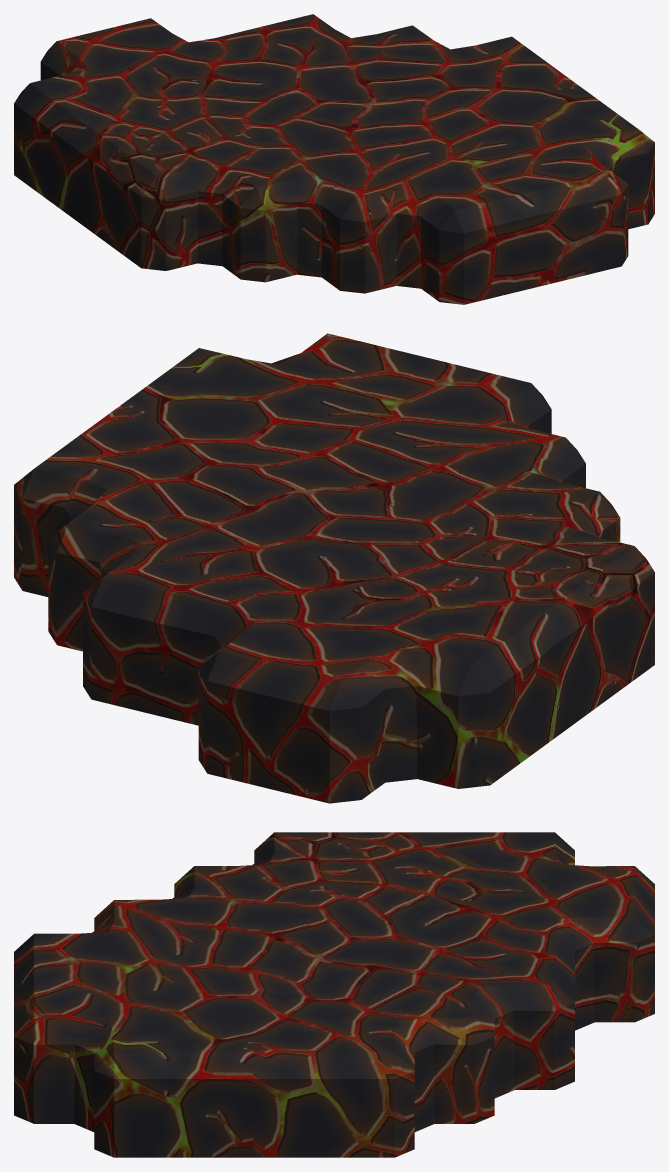
The model's file is IslandMid2.fbx.
3 renders of one model, top to bottom at view 1: azimuth 30°, elevation 25°; view 2: azimuth 150°, elevation 25°; view 3: azimuth 270°, elevation 25°, orthographic. The views are drawn at different scales.
Parts seen in each view (by area): view 1: Medium_Island; view 2: Medium_Island; view 3: Medium_Island.
Part boxes in pixels (x1=…): Medium_Island: x1=14, y1=14, x2=654, y2=304; Medium_Island: x1=14, y1=333, x2=654, y2=803; Medium_Island: x1=14, y1=832, x2=654, y2=1157.
Bounding box in the file's own units: 730 × 139 × 834.
